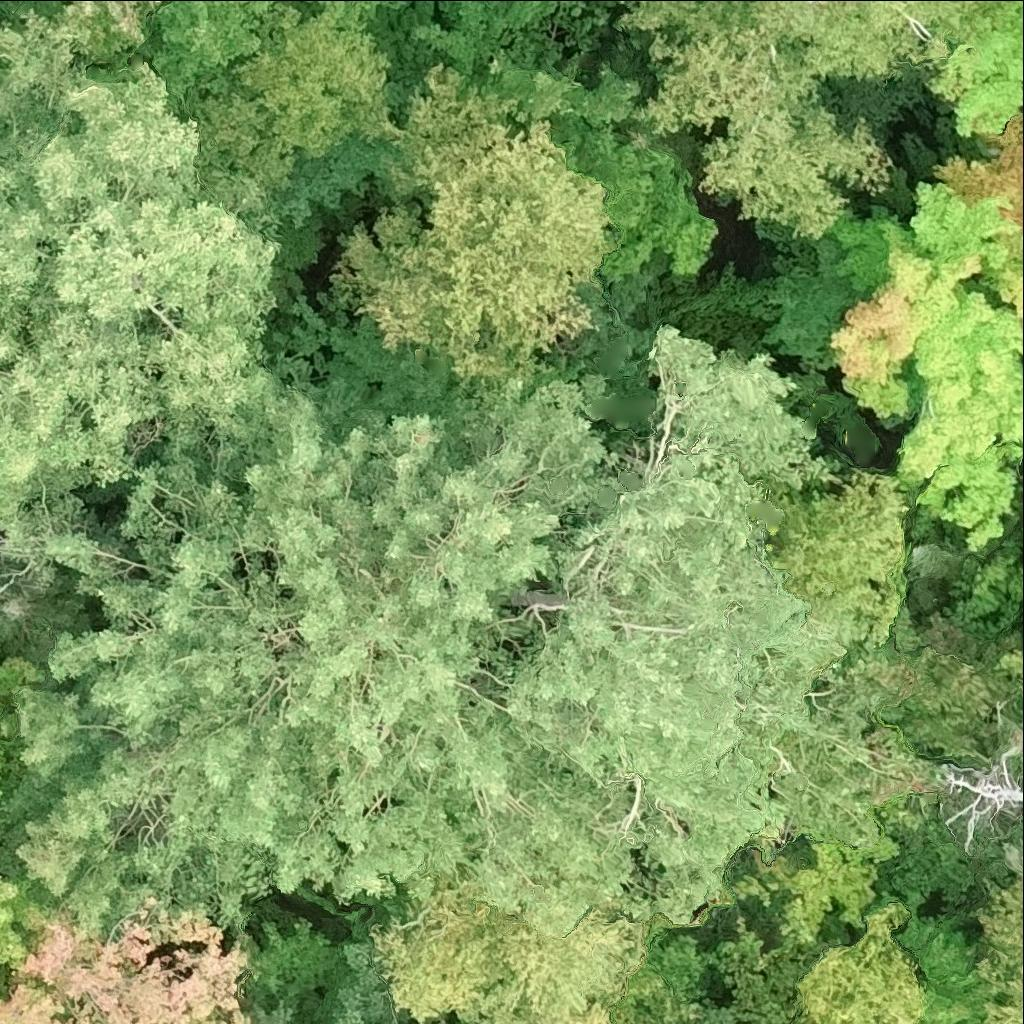crown: (0, 312, 602, 944), (435, 336, 940, 933), (0, 0, 275, 518), (340, 69, 620, 379), (830, 184, 1023, 545), (615, 0, 892, 240), (191, 0, 416, 230), (371, 903, 645, 1023), (0, 910, 246, 1023), (86, 0, 259, 128), (738, 816, 906, 940), (764, 0, 1023, 80), (870, 647, 1022, 770), (865, 786, 979, 941), (942, 110, 1023, 320), (796, 899, 927, 1023), (895, 928, 1020, 1023), (931, 13, 1023, 137), (930, 746, 1023, 852), (0, 561, 88, 659), (325, 941, 412, 1023), (0, 876, 54, 992), (981, 884, 1023, 1023), (86, 0, 170, 67), (948, 551, 1023, 625), (0, 660, 46, 777), (907, 544, 969, 584), (0, 0, 71, 24), (984, 651, 1023, 694), (241, 0, 271, 16), (1017, 362, 1023, 373), (0, 28, 0, 28)
